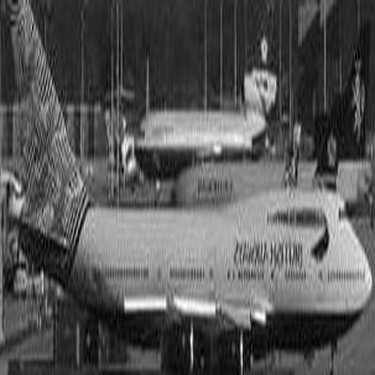airplane: (2, 5, 371, 373), (152, 2, 371, 222), (112, 8, 283, 171)
